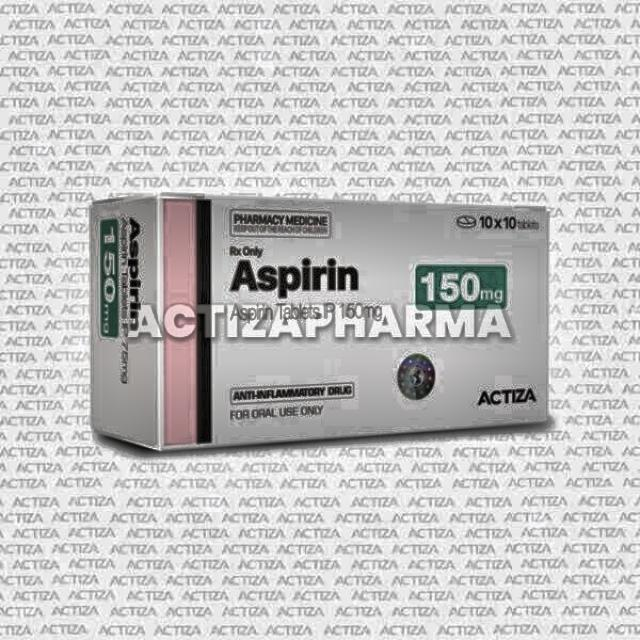Aspirin: (208, 239, 368, 303)
